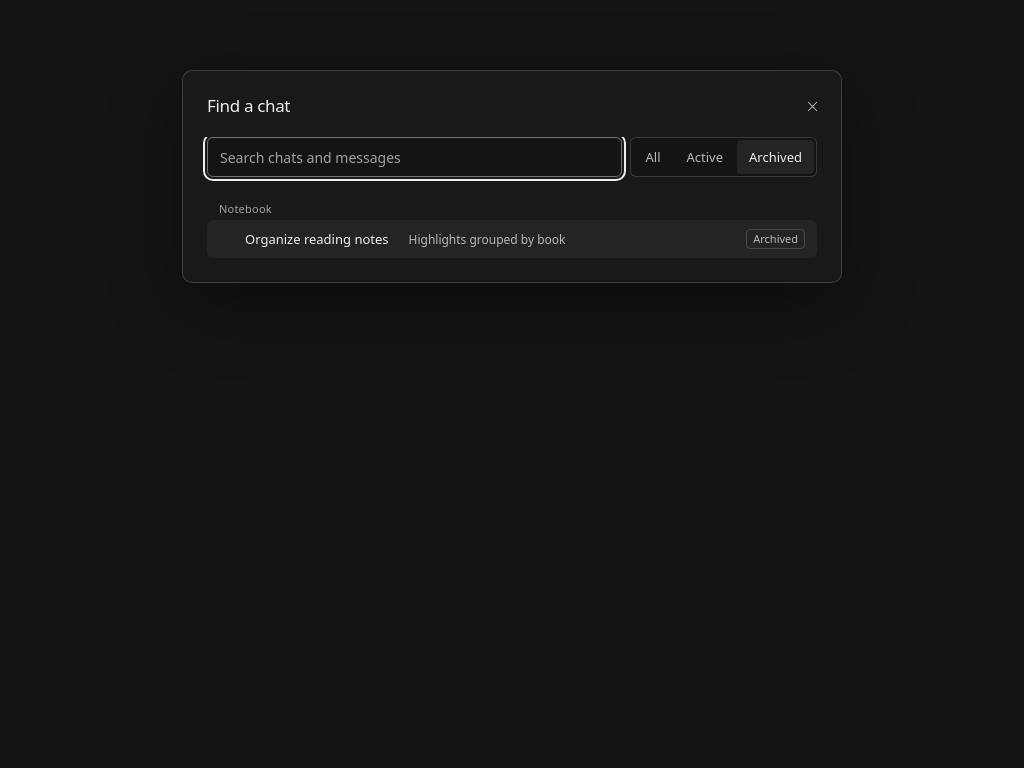
Test: chat finder › opens on a requested filter that the filter buttons still change
Click the button "All" at (653, 157), box x1=634 y1=140 x2=672 y2=174
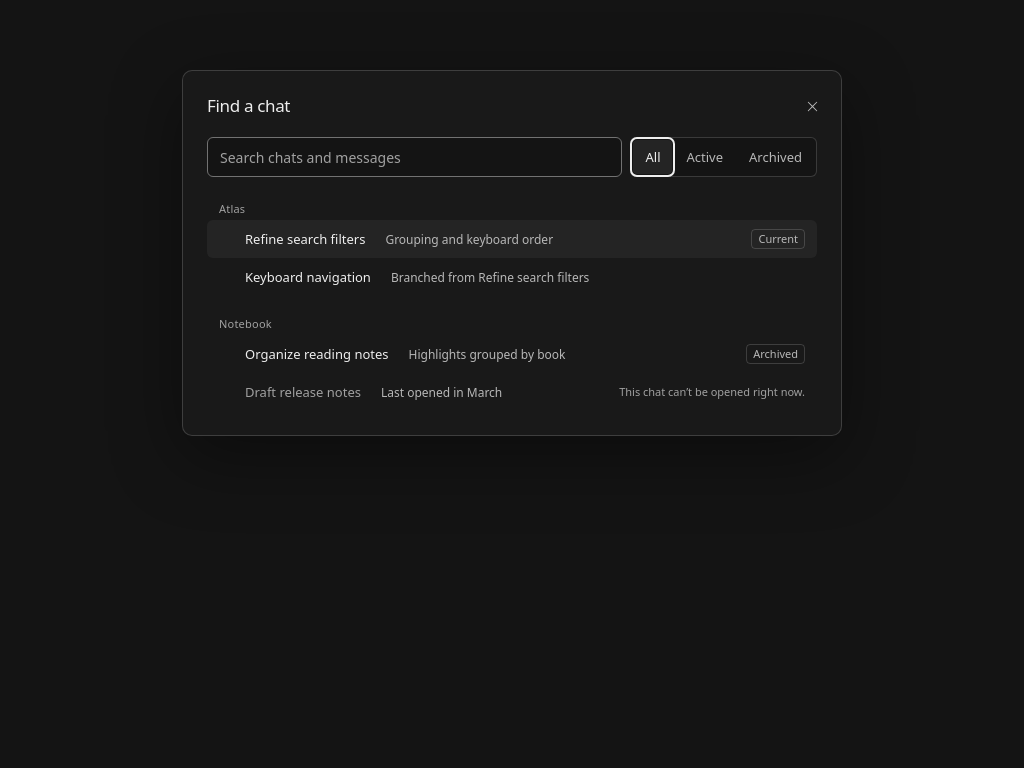
expect the option "Refine search filters" is shown: met, box x1=207 y1=220 x2=817 y2=258
